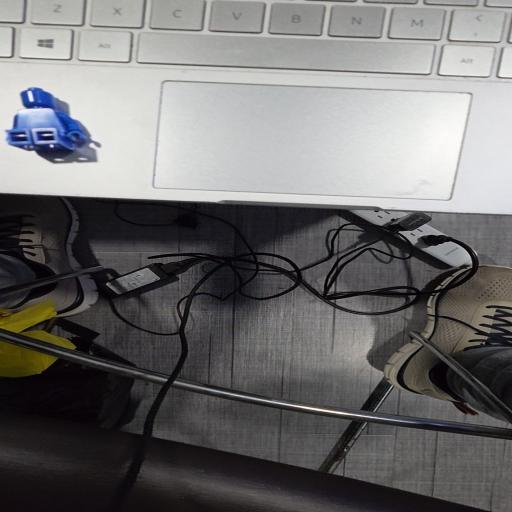Blue: (6, 88, 88, 152)
